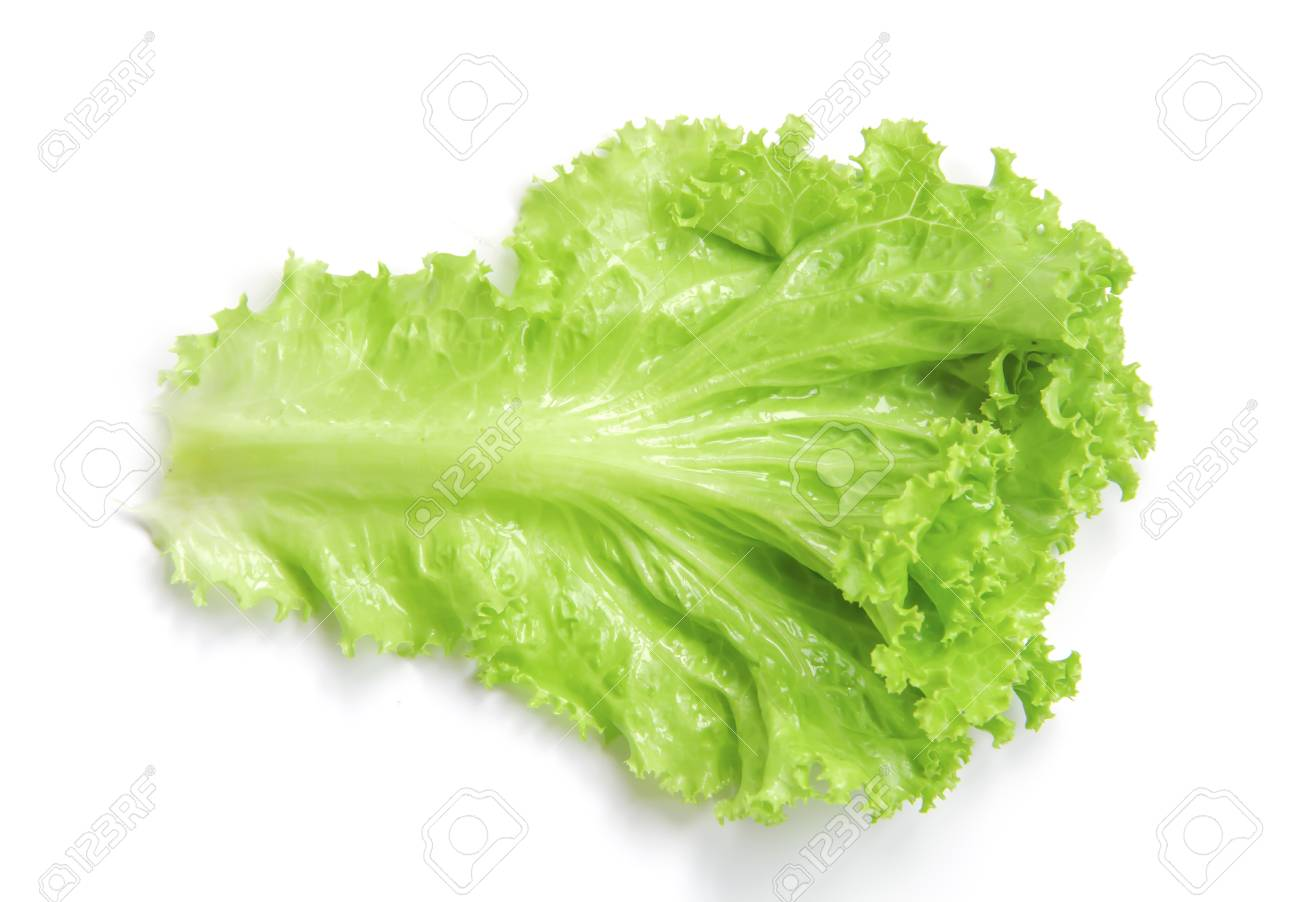lettuce: (156, 64, 1141, 830)
